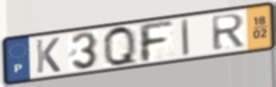3: (67, 31, 101, 72)
F: (136, 20, 176, 64)
I: (180, 17, 191, 58)
K: (34, 36, 62, 75)
Q: (101, 24, 140, 68)
R: (209, 13, 247, 53)
